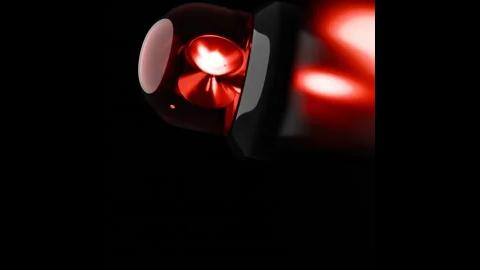controlled_fire: (133, 1, 242, 123)
